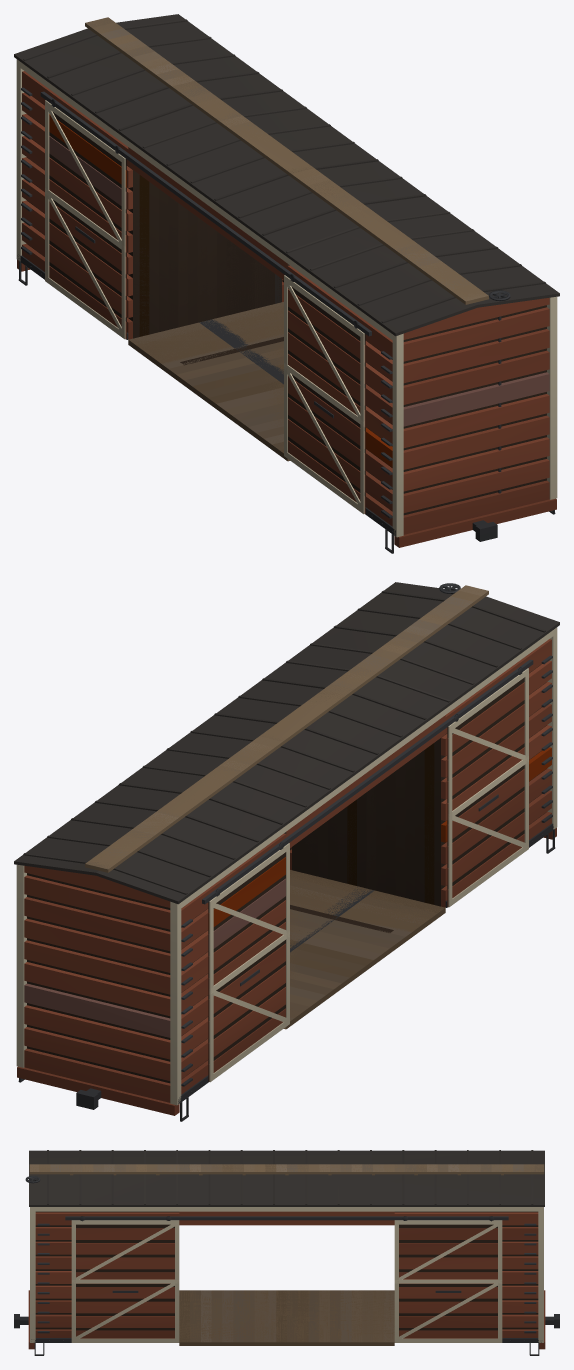
File: stock.glb
3 views of the same model, one above another, from view 1: azimuth 30°, elevation 25°; view 2: azimuth 150°, elevation 25°; view 3: azimuth 270°, elevation 25° (orthographic). The views are drawn at different scales.
Parts seen in each view (by area): view 1: Body, Far, Door_LF, Door_LB; view 2: Body, Far, Door_LB, Door_LF; view 3: Body, Door_RB, Door_RF, Far.
Part boxes in pixels (<box>): Body: <box>14,14,559,553</box>; Far: <box>86,18,508,447</box>; Door_LF: <box>45,99,126,339</box>; Door_LB: <box>284,274,365,514</box>; Body: <box>14,582,559,1121</box>; Far: <box>86,584,487,1019</box>; Door_LB: <box>447,667,528,907</box>; Door_LF: <box>208,842,289,1082</box>; Body: <box>14,1150,559,1355</box>; Door_RB: <box>71,1216,179,1342</box>; Door_RF: <box>394,1216,502,1342</box>; Far: <box>26,1164,543,1342</box>.
Size of the model in its own units: 6 by 8.27 by 25.36.
